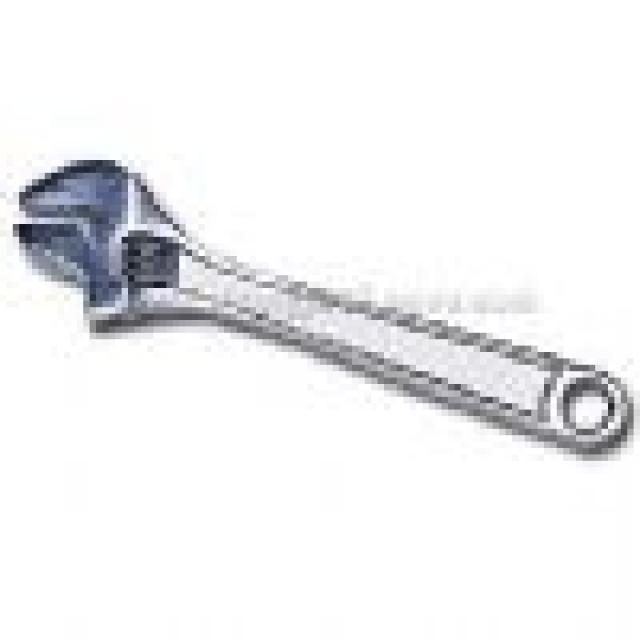wrench: (6, 126, 639, 500)
